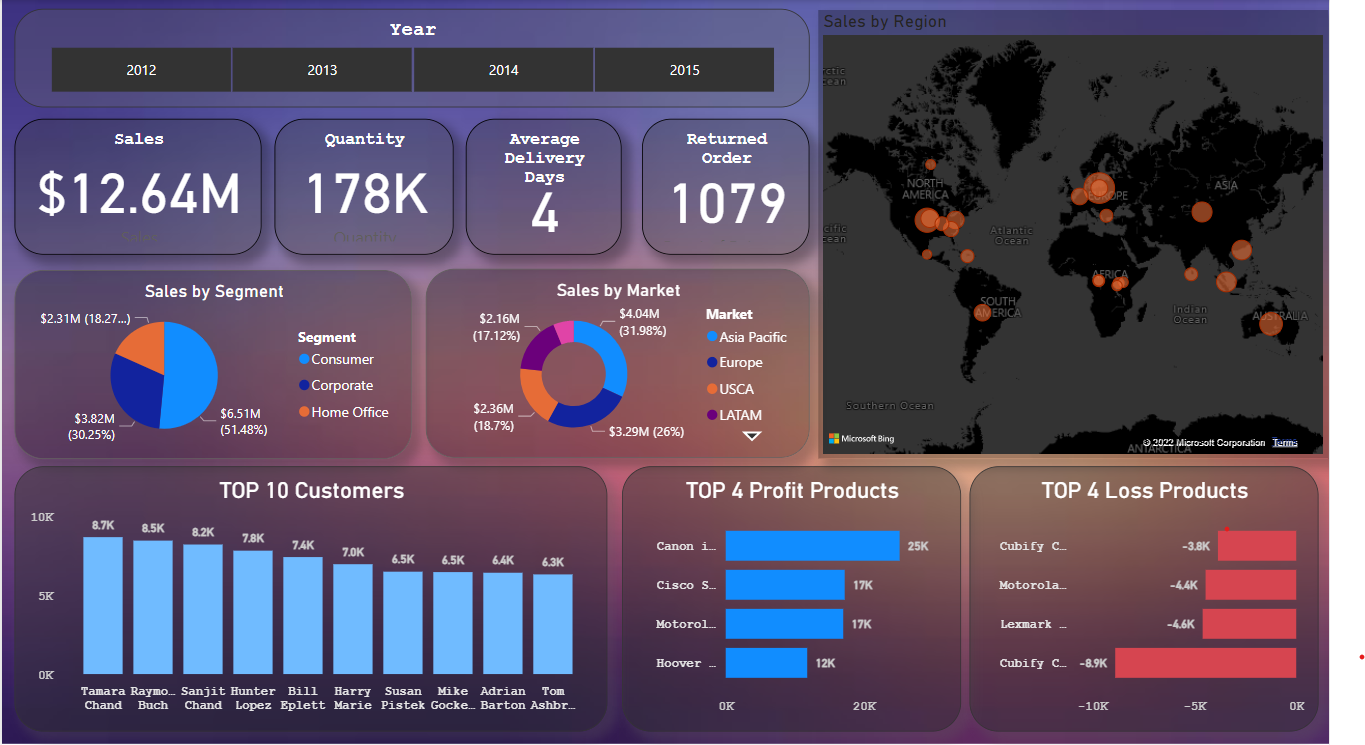

The dashboard page shown, as its layout file describes it:
{"tool":"powerbi","page":{"name":"Page 1","canvas":[1280,720],"ordinal":0},"visuals":[{"type":"card","title":"Sales","fields":{"Values":["Orders.Sales"]},"box":[12.3,115,238.2,131.4],"z":0},{"type":"card","title":"Quantity","fields":{"Values":["Orders.Quantity"]},"box":[262.9,114.6,172.5,131.5],"z":1000},{"type":"card","title":"Average Delivery Days","fields":{"Values":["Orders.Delivery Days"]},"box":[447.4,114.6,150.8,131.5],"z":2000},{"type":"slicer","title":"Year","fields":{"Values":["Orders.Year"]},"box":[12.1,8.4,767,95.3],"z":3000},{"type":"card","title":"Returned Order","fields":{"Values":["Returns.Return Order"]},"box":[617.5,114.6,161.6,131.5],"z":4000},{"type":"map","fields":{"Size":["Orders.Sales"],"Category":["Orders.Region"]},"box":[787.5,8.4,492.1,433],"z":5000},{"type":"clusteredBarChart","title":"TOP 4 Profit Products","fields":{"Y":["Orders.Profit"],"Category":["Orders.Product Name"]},"box":[598.2,449.8,326.8,255.7],"z":6000},{"type":"clusteredBarChart","title":"TOP 4 Loss Products","fields":{"Y":["Orders.Profit"],"Category":["Orders.Product Name"]},"box":[933.5,449.8,336.5,255.7],"z":7000},{"type":"pieChart","fields":{"Category":["Orders.Segment"],"Y":["Orders.Sales"]},"box":[12.1,260.5,383.5,182.1],"z":8000},{"type":"donutChart","fields":{"Y":["Orders.Sales"],"Category":["Orders.Market"]},"box":[408.8,259.3,370.3,182.1],"z":9000},{"type":"columnChart","title":"TOP 10 Customers","fields":{"Y":["Orders.Profit"],"Category":["Orders.Customer Name"]},"box":[12.1,449.8,571.7,255.7],"z":10000}]}

Visuals, with their boxes on the page's 1280x720 design canvas (x1, y1, x2, y2). These are canvas units, not pixel positions in the 1365x745 screenshot, which may show the page scaled, cropped or inside an application window:
"Sales" card: <bbox>12, 115, 250, 246</bbox>
"Quantity" card: <bbox>263, 115, 435, 246</bbox>
"Average Delivery Days" card: <bbox>447, 115, 598, 246</bbox>
"Year" slicer: <bbox>12, 8, 779, 104</bbox>
"Returned Order" card: <bbox>618, 115, 779, 246</bbox>
map - Orders.Sales x Orders.Region: <bbox>788, 8, 1280, 441</bbox>
"TOP 4 Profit Products" clusteredBarChart: <bbox>598, 450, 925, 706</bbox>
"TOP 4 Loss Products" clusteredBarChart: <bbox>934, 450, 1270, 706</bbox>
pieChart - Orders.Segment x Orders.Sales: <bbox>12, 260, 396, 443</bbox>
donutChart - Orders.Sales x Orders.Market: <bbox>409, 259, 779, 441</bbox>
"TOP 10 Customers" columnChart: <bbox>12, 450, 584, 706</bbox>
